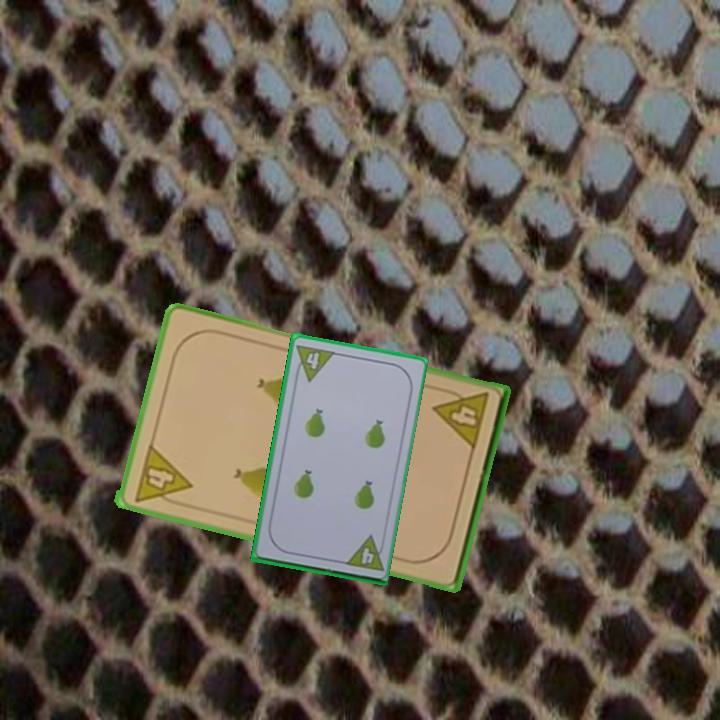4p: (130, 440, 194, 511), (429, 384, 492, 453), (291, 341, 337, 384), (341, 532, 388, 574)
